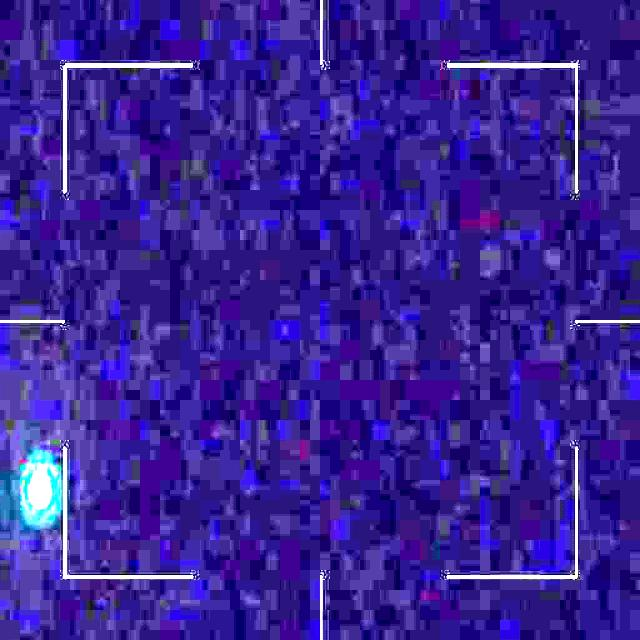bird: (0, 459, 55, 509)
